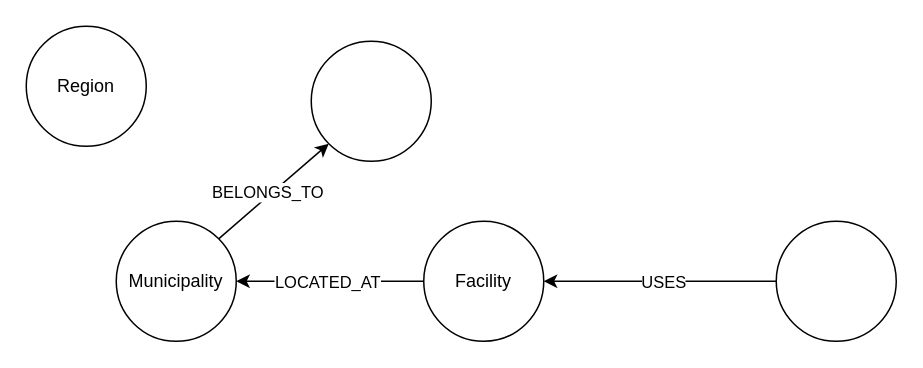
Image size: 923x368. Some labels were removed from this diagram. The centre of each missing label's shape, as x and y in pixels:
"Activity" goes at (x=835, y=280).
"District" goes at (x=370, y=100).
